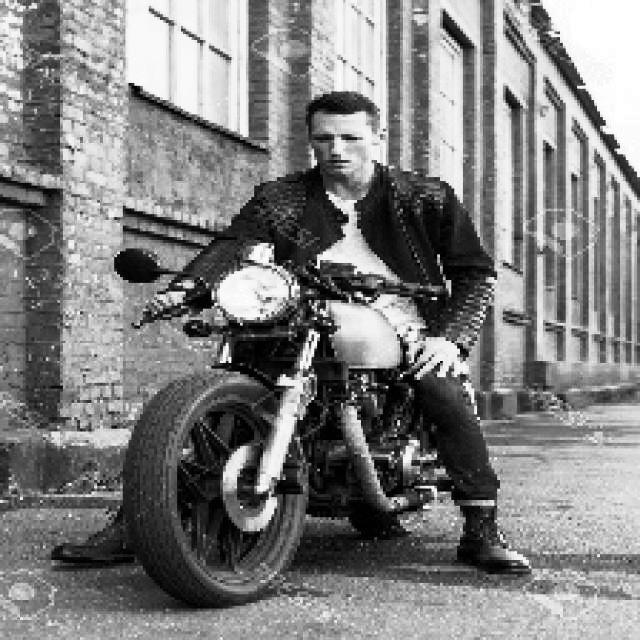Bike: (127, 246, 452, 612)
